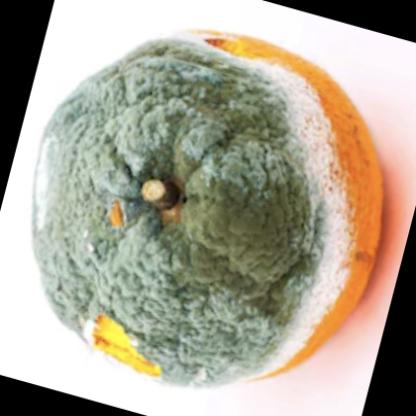rotten: (31, 34, 385, 390)
